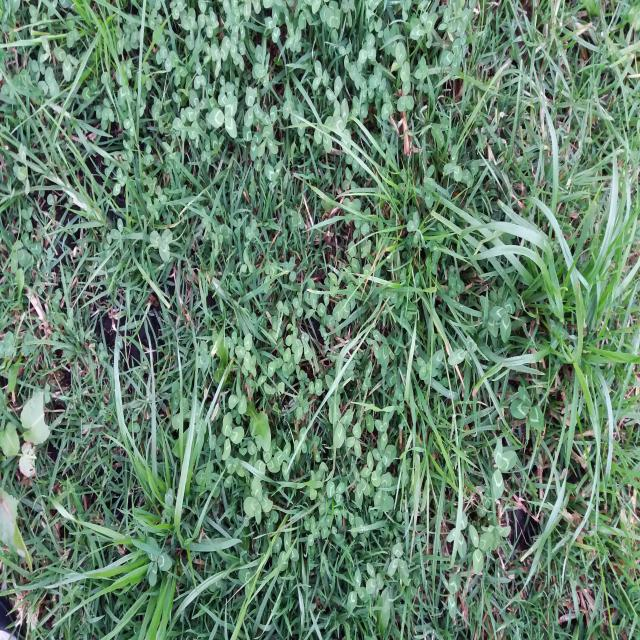Four Leaf Clover: (243, 476, 273, 524), (291, 332, 313, 365)
